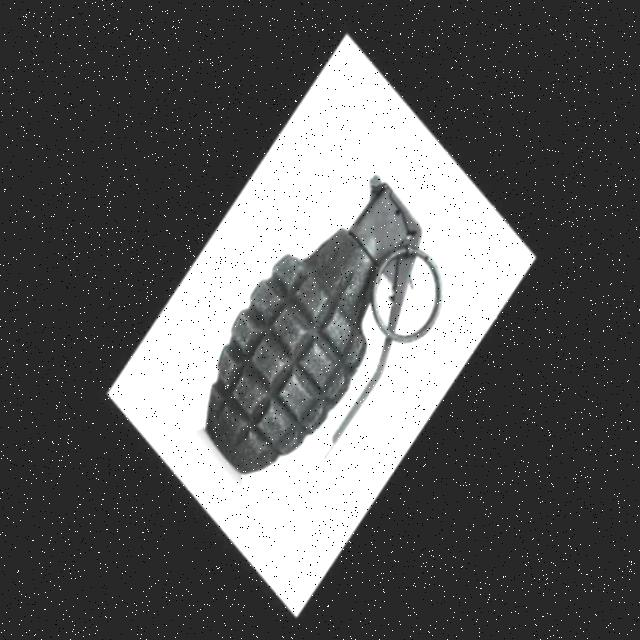grenade: (134, 124, 512, 521)
